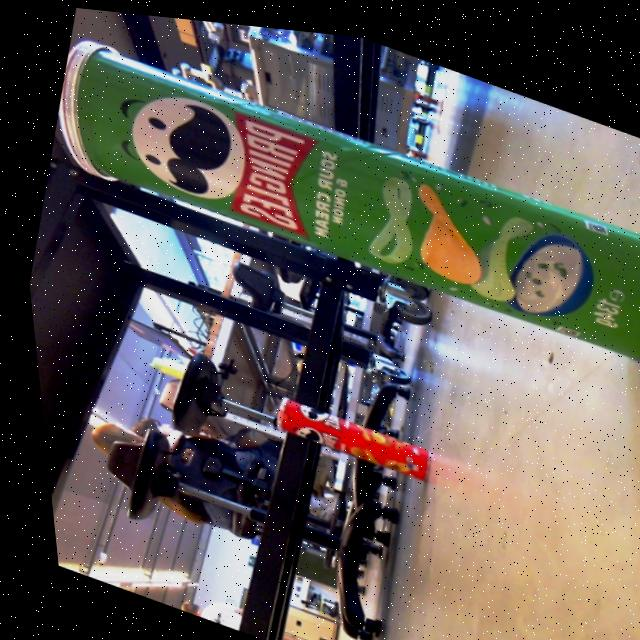greenpringles: (29, 16, 640, 390)
redpringles: (246, 371, 455, 494)
